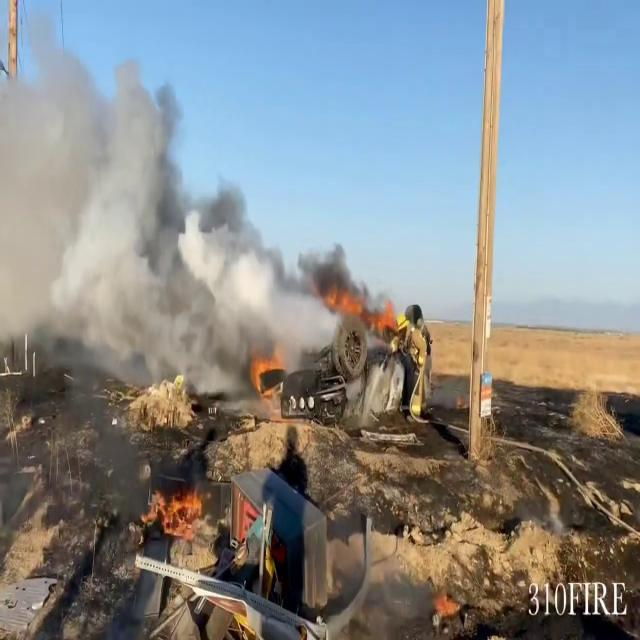Fire: (147, 480, 210, 537), (251, 352, 285, 396)
Smoke: (0, 38, 394, 388)
